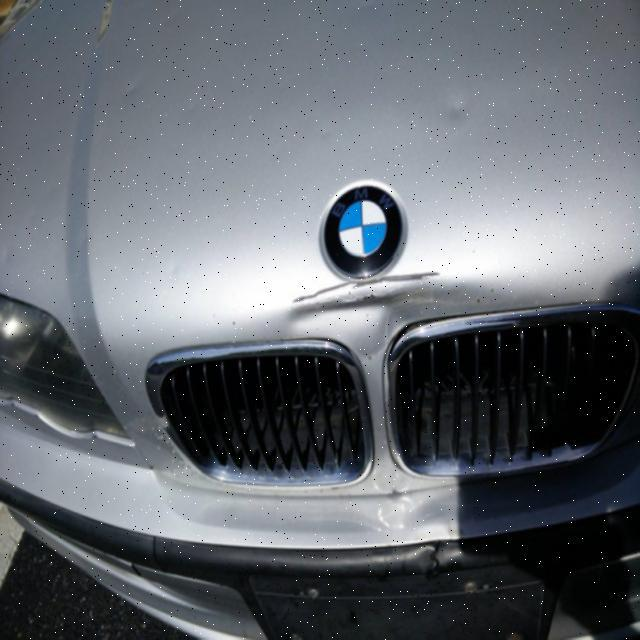bonnet-dent: (77, 0, 566, 373)
